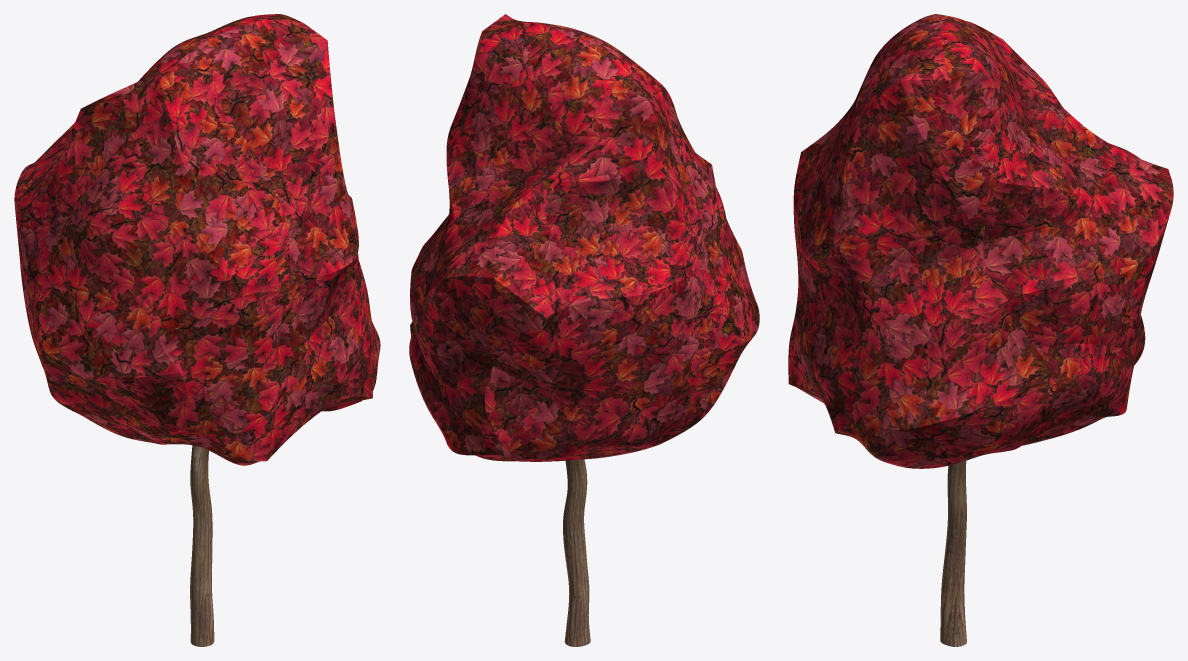
File: maple.obj
3 renders of one model, left to right at view 1: azimuth 30°, elevation 25°; view 2: azimuth 150°, elevation 25°; view 3: azimuth 270°, elevation 25°, orthographic. The views are drawn at different scales.
Visible parts, largest first — view 1: 10451_Red_Maple_Tree_v1_Iteration3; view 2: 10451_Red_Maple_Tree_v1_Iteration3; view 3: 10451_Red_Maple_Tree_v1_Iteration3.
Boxes of the visible parts, x1,y1,x2,y2 form: 10451_Red_Maple_Tree_v1_Iteration3: (14, 14, 380, 646); 10451_Red_Maple_Tree_v1_Iteration3: (409, 14, 759, 646); 10451_Red_Maple_Tree_v1_Iteration3: (788, 14, 1173, 646).
Size of the model in its own units: 2.88 by 5.18 by 2.87.
1 material, 1 textured.
